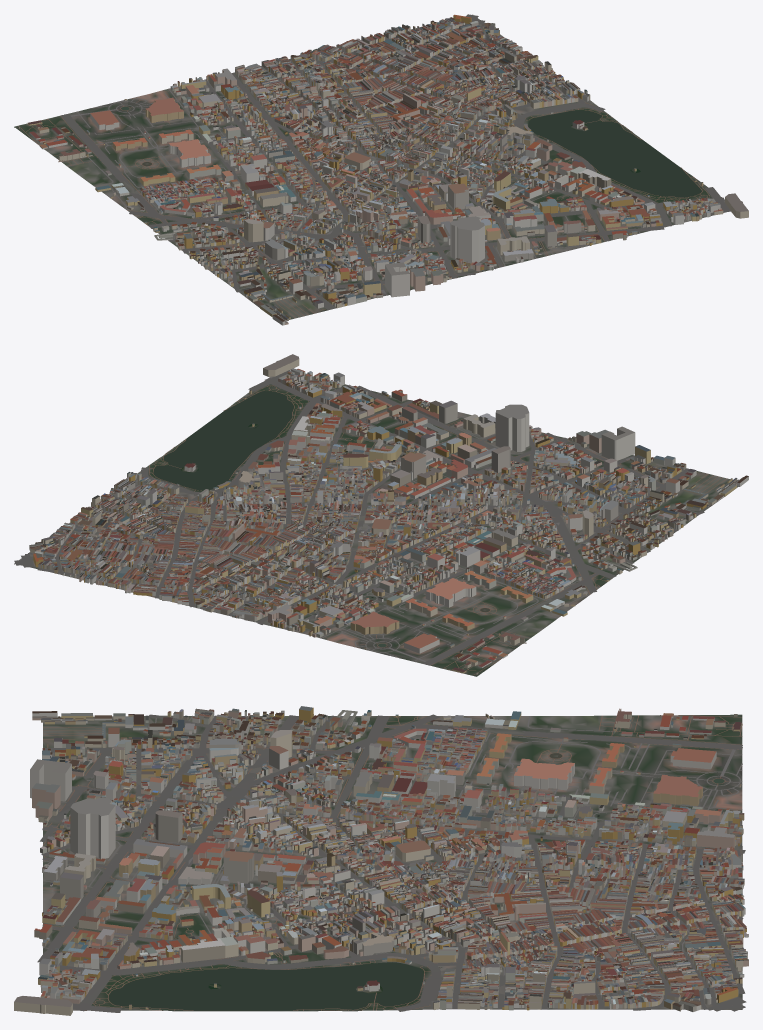
The picture shows the model from 3 angles, top to bottom: view 1: azimuth 30°, elevation 25°; view 2: azimuth 150°, elevation 25°; view 3: azimuth 270°, elevation 25°; orthographic projection. The views are drawn at different scales.
Parts seen in each view (by area): view 1: buildings, ground, roads, water; view 2: buildings, ground, roads, water; view 3: buildings, ground, roads, water.
Part boxes in pixels (box(x1,y1,x2,y2)): buildings: box(18, 14, 748, 325); ground: box(14, 14, 725, 320); roads: box(18, 14, 730, 317); water: box(121, 106, 701, 208); buildings: box(29, 354, 748, 674); ground: box(14, 376, 737, 676); roads: box(14, 370, 727, 675); water: box(153, 391, 489, 647); buildings: box(14, 706, 748, 1015); ground: box(43, 714, 742, 1011); roads: box(37, 714, 746, 1012); water: box(107, 739, 724, 1010).
Size of the model in its own units: 1448 by 101 by 1473.
